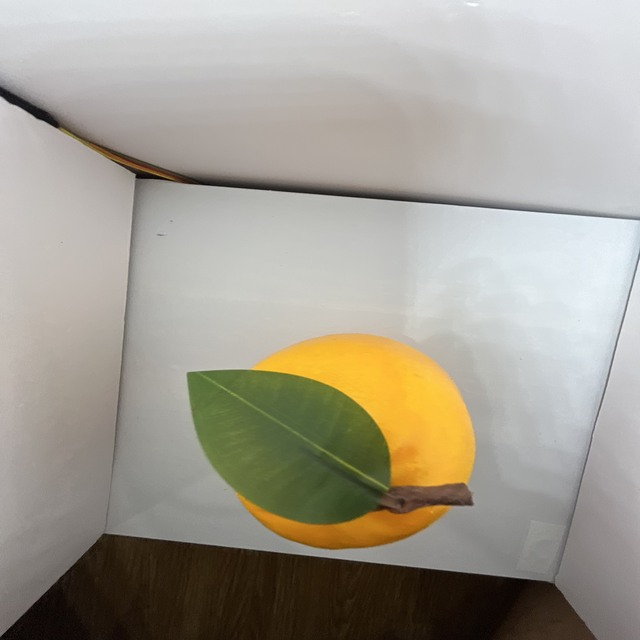Cam vang: (198, 323, 482, 554)
